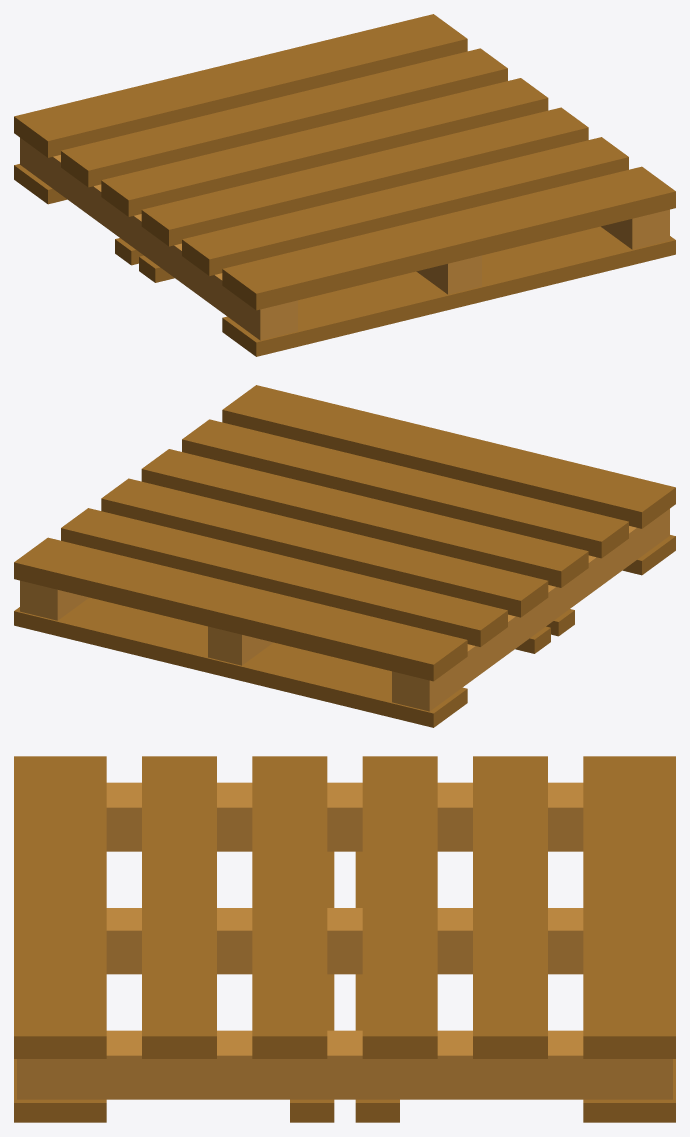
Rendered from Pallet_1_2.fbx.
The picture shows the model from 3 angles, top to bottom: view 1: azimuth 30°, elevation 25°; view 2: azimuth 150°, elevation 25°; view 3: azimuth 270°, elevation 25°; orthographic projection. The views are drawn at different scales.
Parts seen in each view (by area): view 1: Pallet_1_2; view 2: Pallet_1_2; view 3: Pallet_1_2.
Part boxes in pixels (x1,y1,x2,y2): Pallet_1_2: (14, 14, 675, 356); Pallet_1_2: (14, 385, 675, 727); Pallet_1_2: (14, 756, 675, 1122).
Bounding box in the file's own units: 124 × 17.83 × 124.
